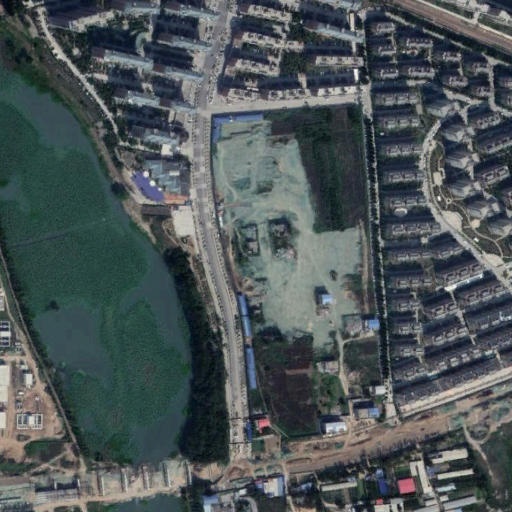cw: (212, 113, 365, 353)
